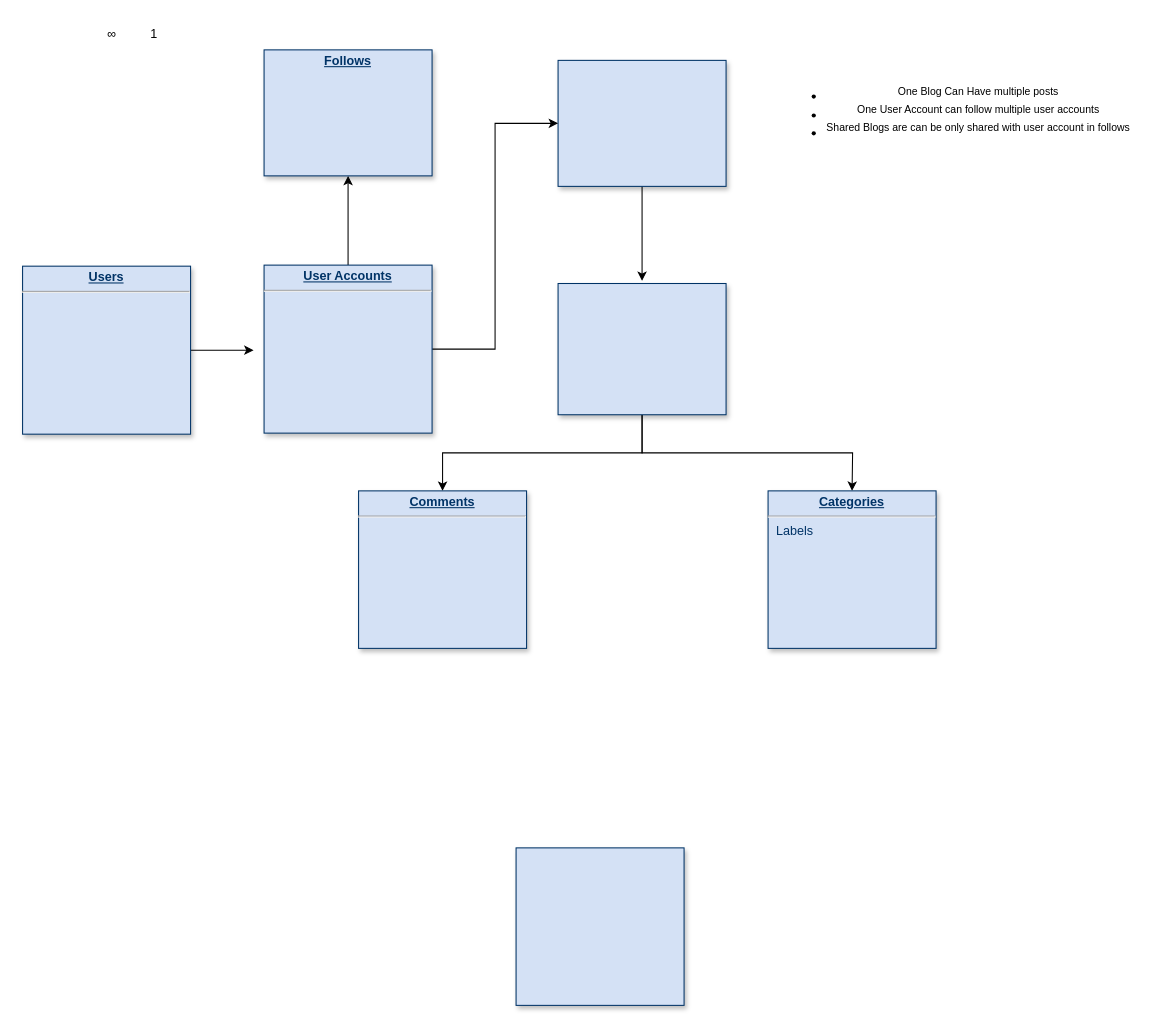
Image size: 1159x1031. Some labels were removed from this diagram. Here are the shapes that lost their labels. From the top down, the centre of each, then its label:
At (642,124): "Blogs".
At (642,350): "Posts".
At (600,928): "Audit Logs".
